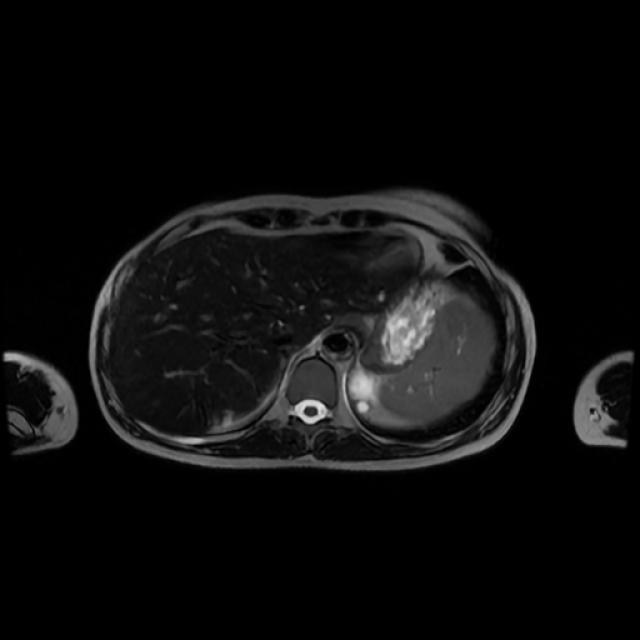sag: (219, 409, 235, 428)
sol: (349, 366, 376, 415)
